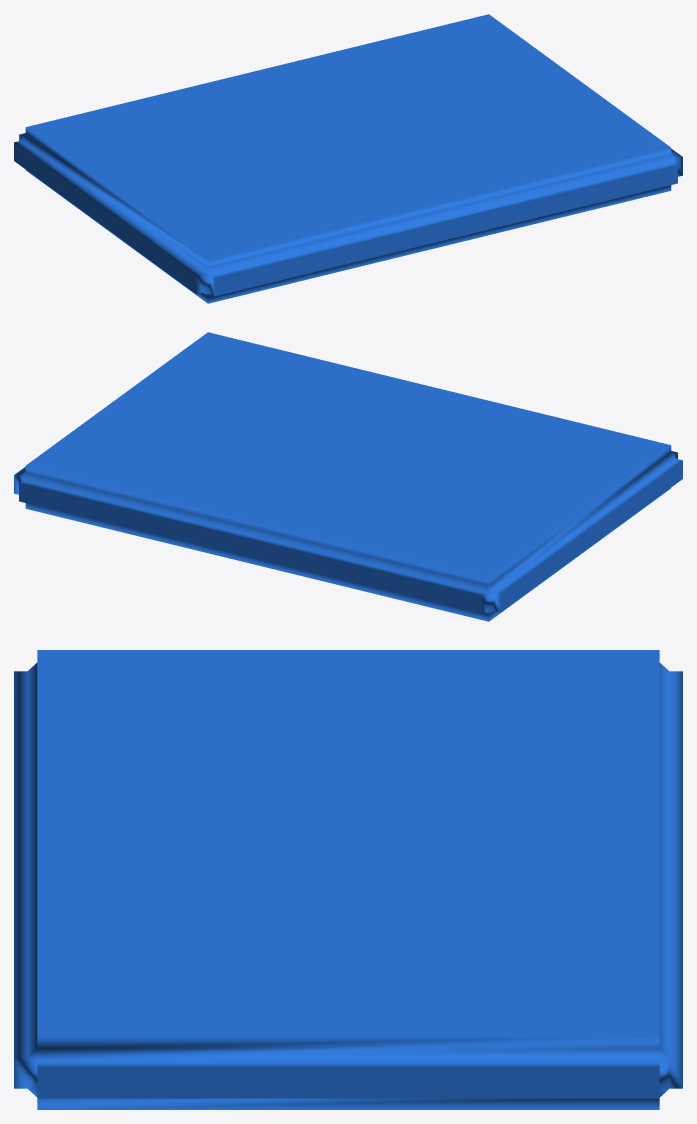
The model's file is hypercar_vented_hood.glb.
The picture shows the model from 3 angles, top to bottom: view 1: azimuth 30°, elevation 25°; view 2: azimuth 150°, elevation 25°; view 3: azimuth 270°, elevation 25°; orthographic projection. The views are drawn at different scales.
Parts seen in each view (by area): view 1: Hypercar_Vented_Hood; view 2: Hypercar_Vented_Hood; view 3: Hypercar_Vented_Hood.
Part boxes in pixels (x1=…): Hypercar_Vented_Hood: x1=14, y1=14, x2=682, y2=303; Hypercar_Vented_Hood: x1=14, y1=332, x2=682, y2=621; Hypercar_Vented_Hood: x1=14, y1=650, x2=682, y2=1109.
Bounding box in the file's own units: 1.65 × 0.14 × 1.15.
